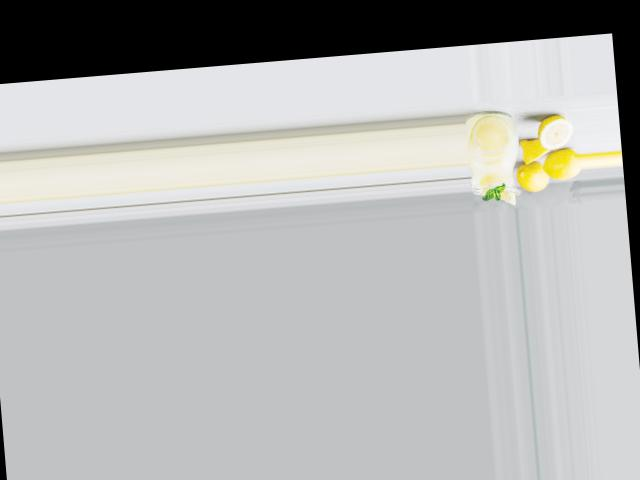lemon: (536, 149, 580, 179)
